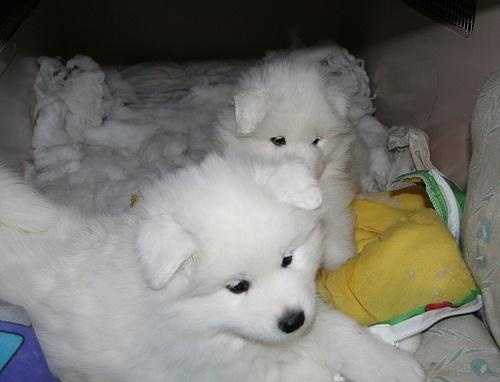dog: (2, 161, 427, 382), (216, 61, 360, 277)
